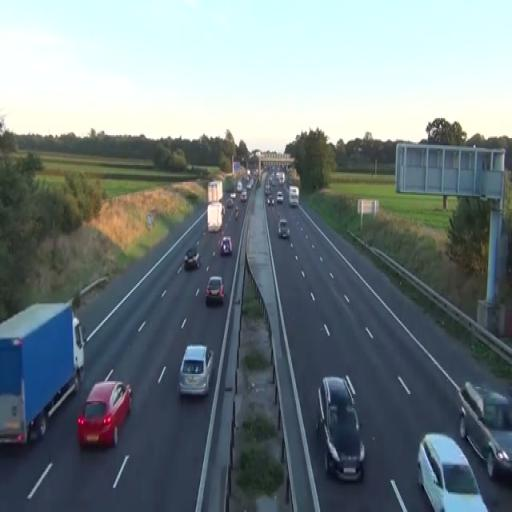Car: (416, 432, 488, 512), (457, 380, 512, 483), (316, 375, 366, 483), (76, 380, 134, 449), (178, 344, 214, 398), (205, 276, 225, 306), (184, 248, 201, 270), (219, 236, 232, 256), (278, 219, 290, 239)
Truck: (0, 301, 86, 447)
